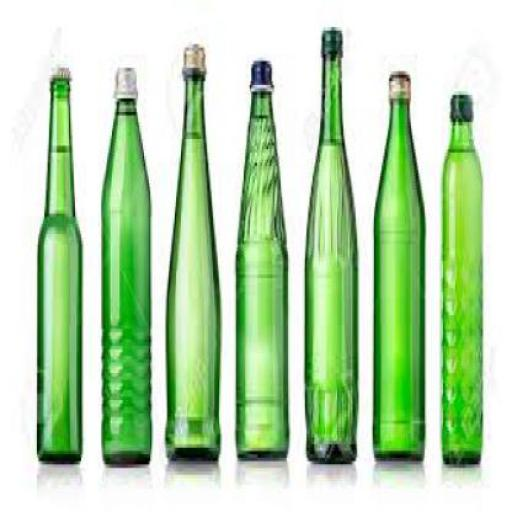glass: (304, 50, 358, 458), (164, 71, 219, 455), (98, 95, 151, 465), (236, 88, 287, 461), (372, 98, 423, 458), (35, 74, 79, 461), (441, 115, 482, 461)
metal: (247, 55, 271, 88), (114, 64, 136, 95), (181, 40, 204, 68), (448, 88, 470, 115), (387, 68, 406, 94), (319, 27, 338, 48), (46, 64, 68, 81)
